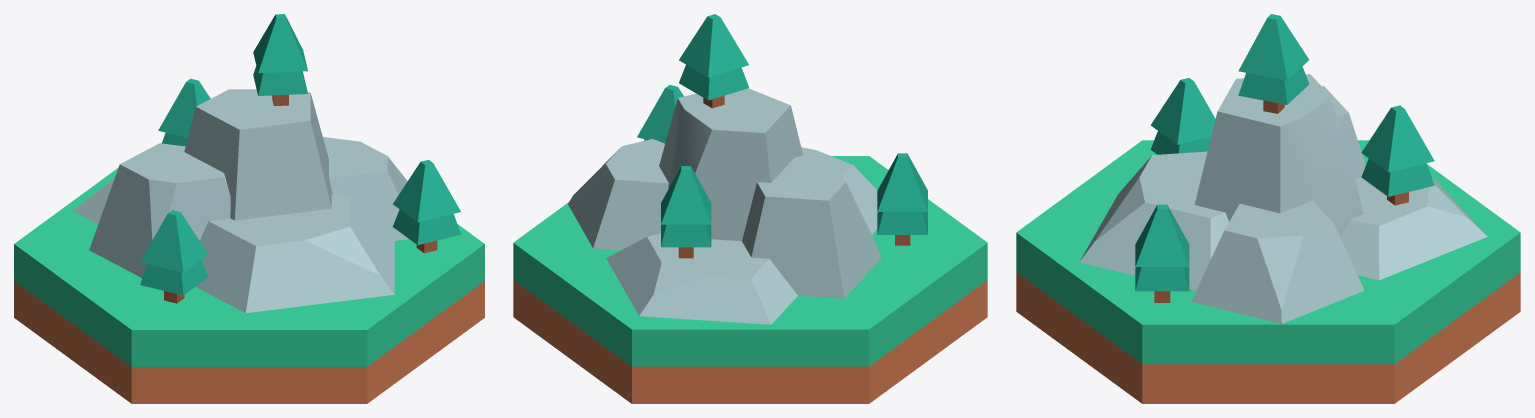
File: Grass Hill.glb
The picture shows the model from 3 angles, left to right: view 1: azimuth 30°, elevation 25°; view 2: azimuth 150°, elevation 25°; view 3: azimuth 270°, elevation 25°; orthographic projection. The views are drawn at different scales.
Parts seen in each view (by area): view 1: grass_hill, rockLarge, tree.003, tree, tree.001, tree.002; view 2: grass_hill, rockLarge, tree.001, tree.002, tree, tree.003; view 3: grass_hill, rockLarge, tree.002, tree.001, tree.003, tree.
Boxes of the visible parts, x1,y1,x2,y2 form: grass_hill: [14, 168, 484, 403]; rockLarge: [72, 89, 408, 313]; tree.003: [392, 160, 460, 253]; tree: [140, 210, 208, 303]; tree.001: [253, 14, 307, 105]; tree.002: [158, 78, 210, 146]; grass_hill: [513, 156, 987, 403]; rockLarge: [568, 88, 881, 324]; tree.001: [679, 14, 748, 108]; tree.002: [661, 166, 711, 258]; tree: [877, 153, 927, 245]; tree.003: [637, 85, 683, 143]; grass_hill: [1016, 140, 1520, 403]; rockLarge: [1079, 74, 1487, 323]; tree.002: [1361, 105, 1434, 205]; tree.001: [1238, 14, 1309, 113]; tree.003: [1135, 204, 1189, 302]; tree: [1150, 78, 1215, 154].
Bounding box in the file's own units: 1 × 0.7894 × 1.15.
